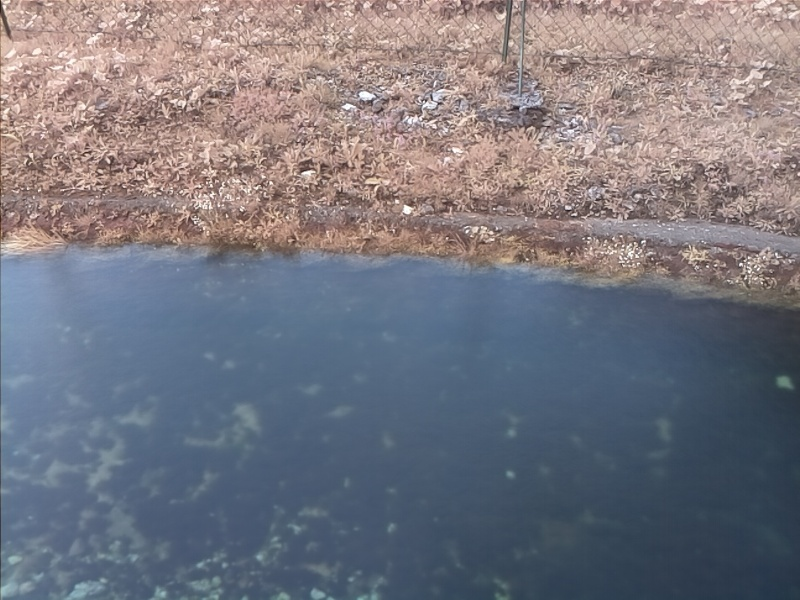Water: (1, 246, 800, 599)
